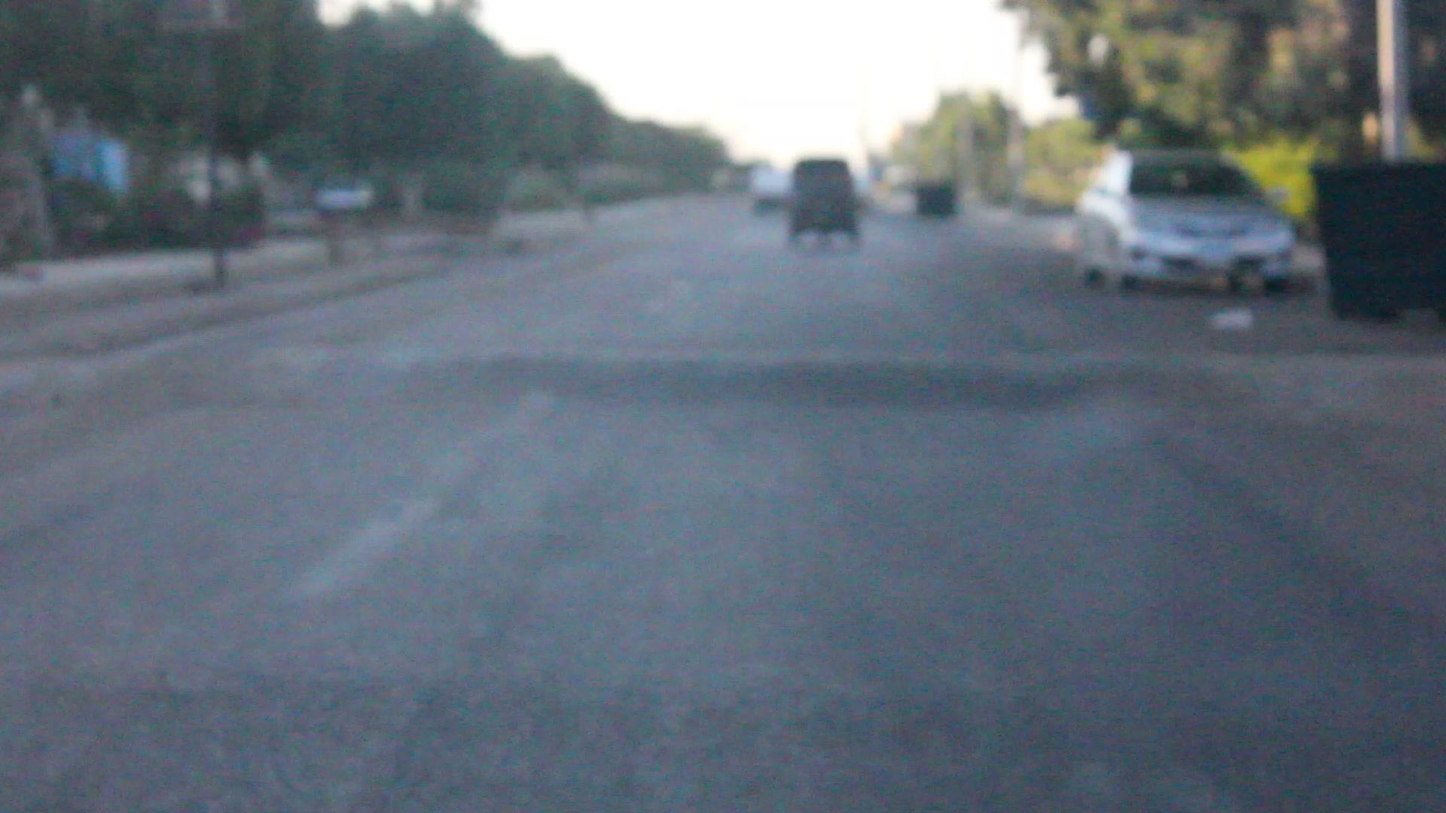Bump: (134, 346, 1445, 431)
